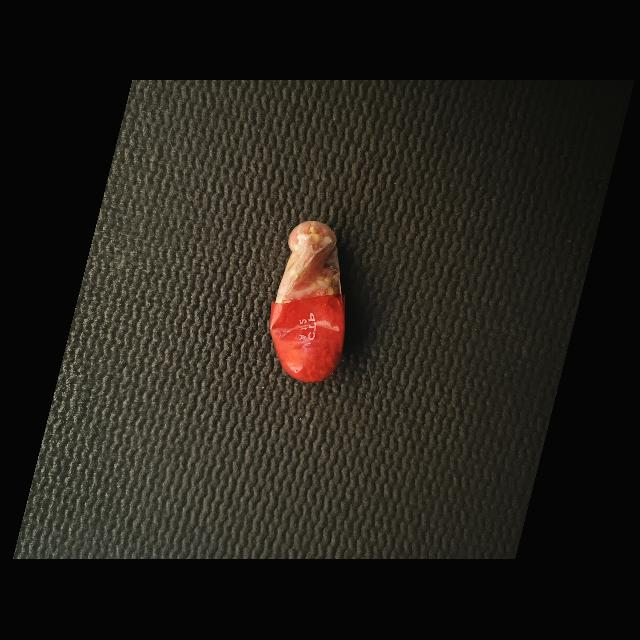Defective Capsule: (270, 221, 345, 383)
